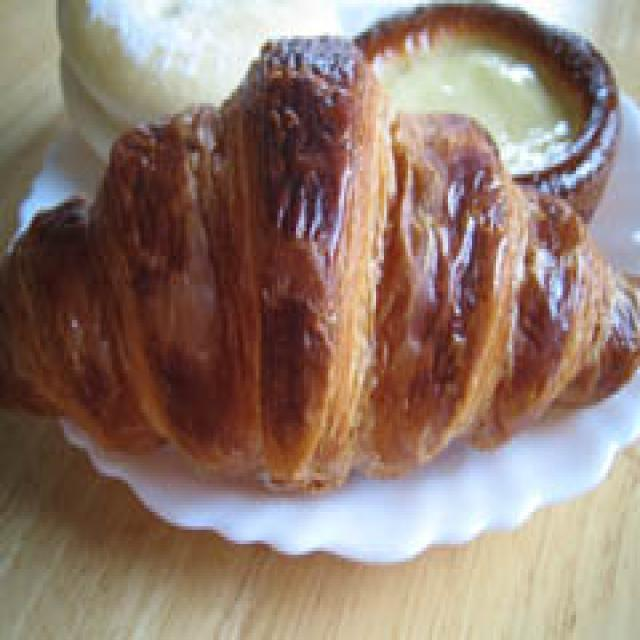Croissant: (18, 32, 640, 483)
